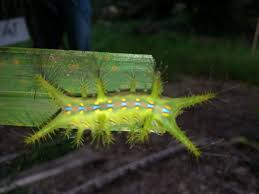Pest! (nettle_caterpillar): (22, 56, 218, 165)
